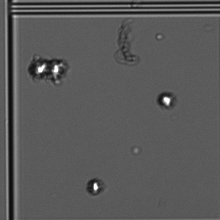Living Cell: (81, 171, 109, 201), (155, 88, 182, 118), (49, 55, 68, 87), (28, 53, 47, 84)
